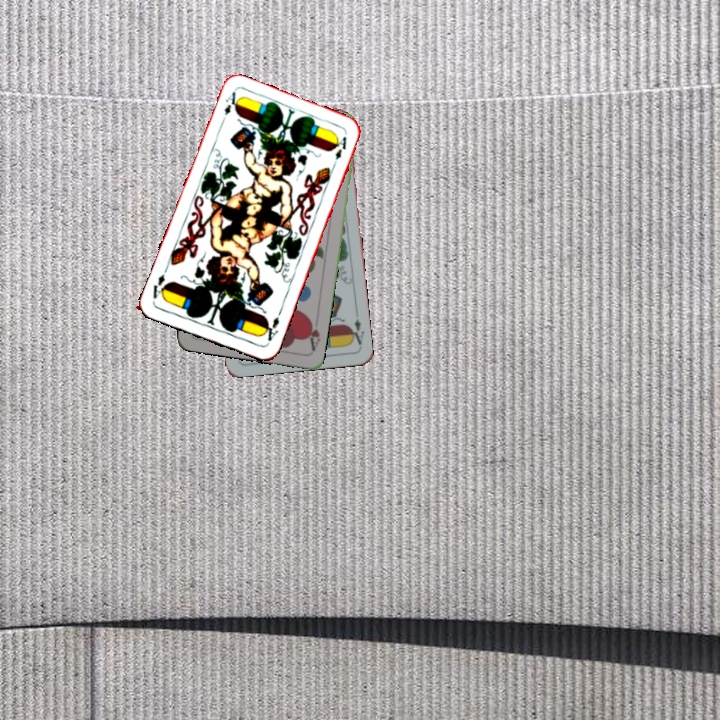EA: (217, 87, 242, 126), (346, 308, 367, 349), (258, 313, 282, 344)
HA: (302, 313, 322, 354)
